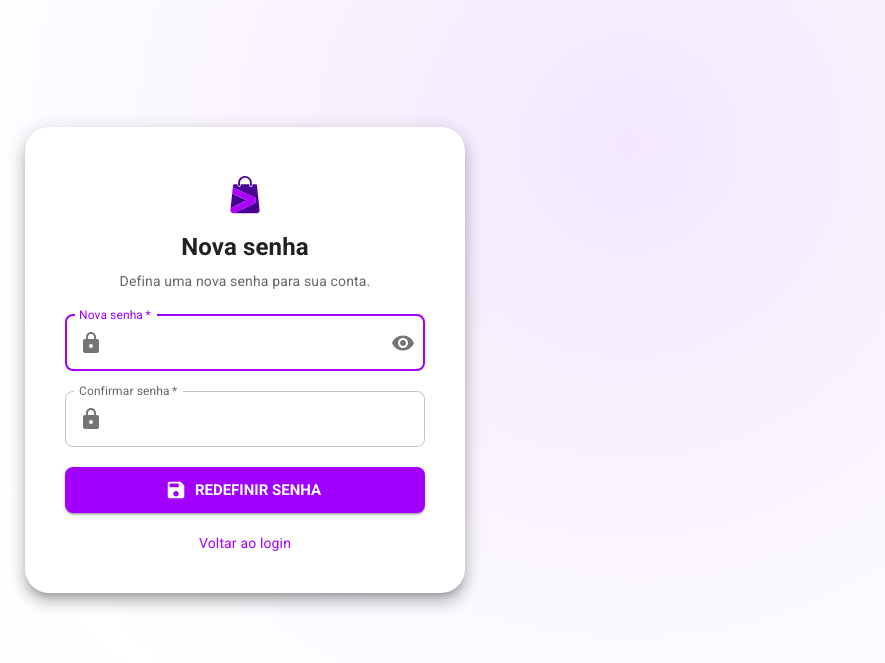
Test: ResetPassword › 422 mostra mensagem de token inválido
Type "12345678" into the password field labelled "Nova senha *". click: (243, 343)
box: [111, 315, 375, 371]
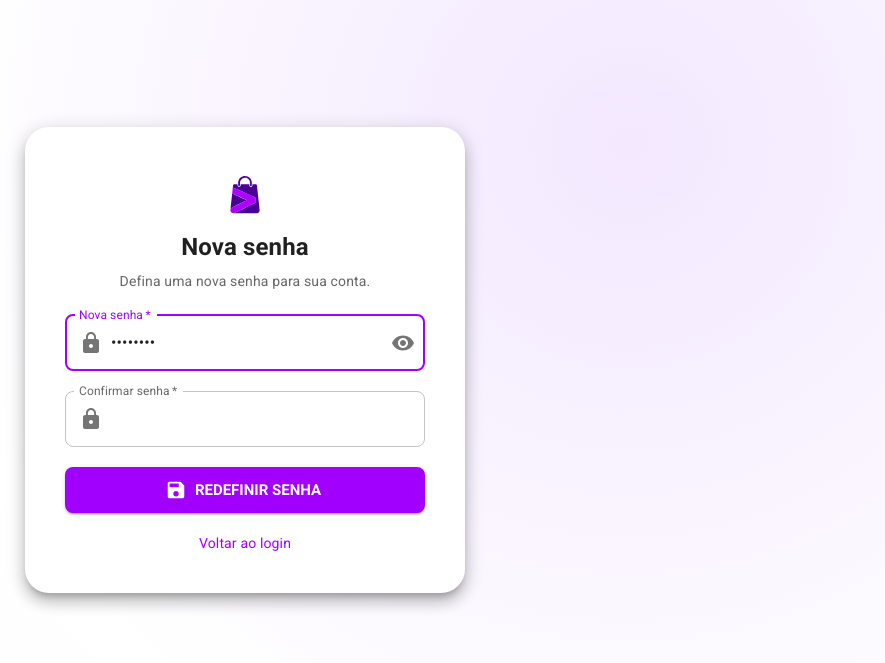
Type "12345678" into the password field labelled "Confirmar senha *". click: (268, 419)
box: [111, 391, 425, 447]
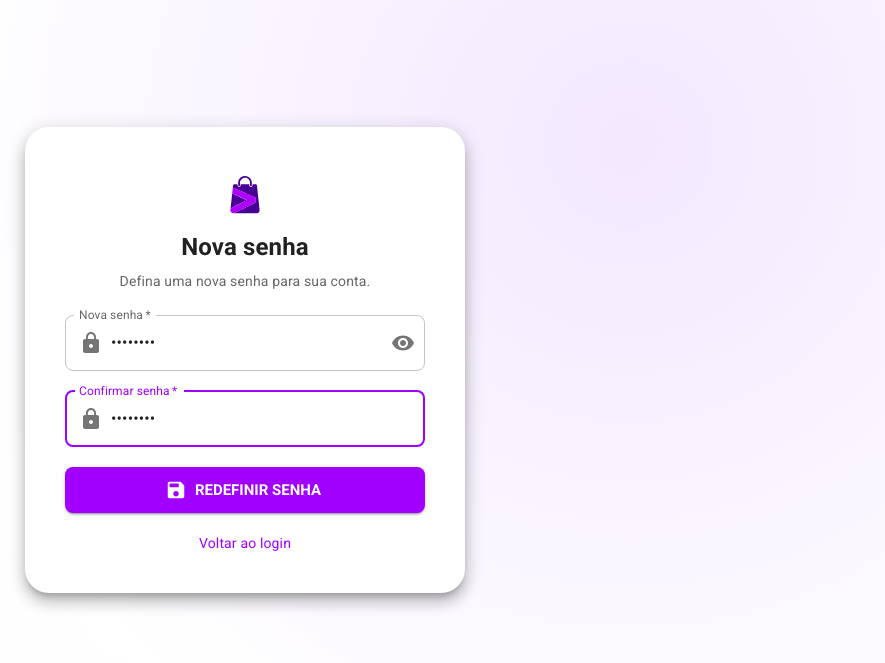
Click the button "Redefinir senha". click: (245, 490)
box: [65, 467, 425, 513]
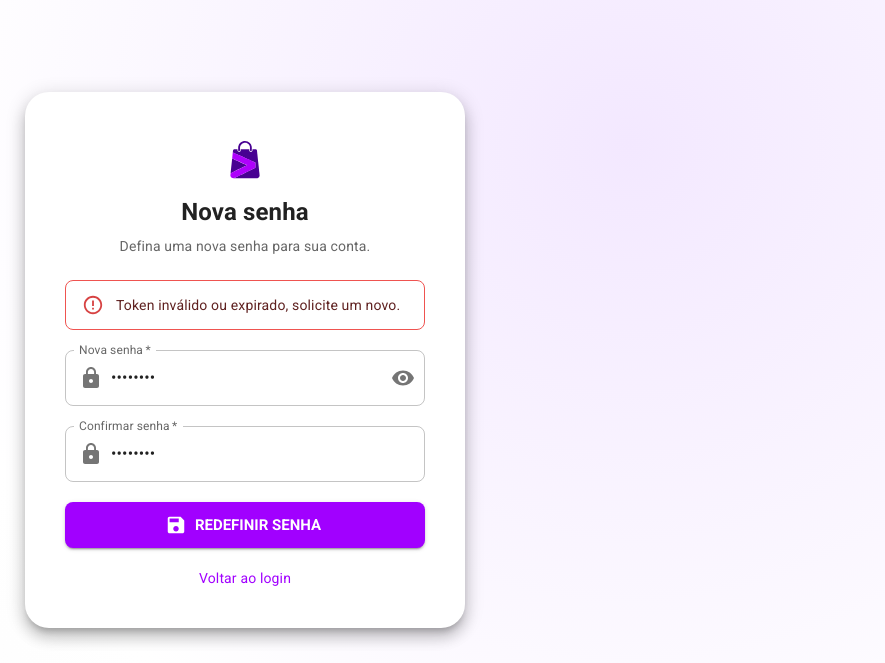
Expected: the text "Token inválido ou expirado, solicite um novo." is shown, [116, 297, 400, 313]
